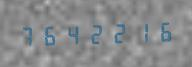four: (61, 21, 82, 47)
one: (127, 18, 148, 45)
seven: (17, 22, 38, 48)
six: (39, 21, 60, 48), (149, 18, 170, 44)
two: (83, 20, 104, 46), (105, 19, 126, 45)
